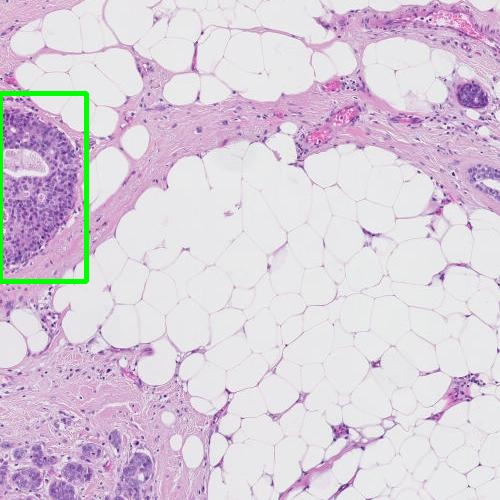DCIS: (0, 93, 86, 281)
